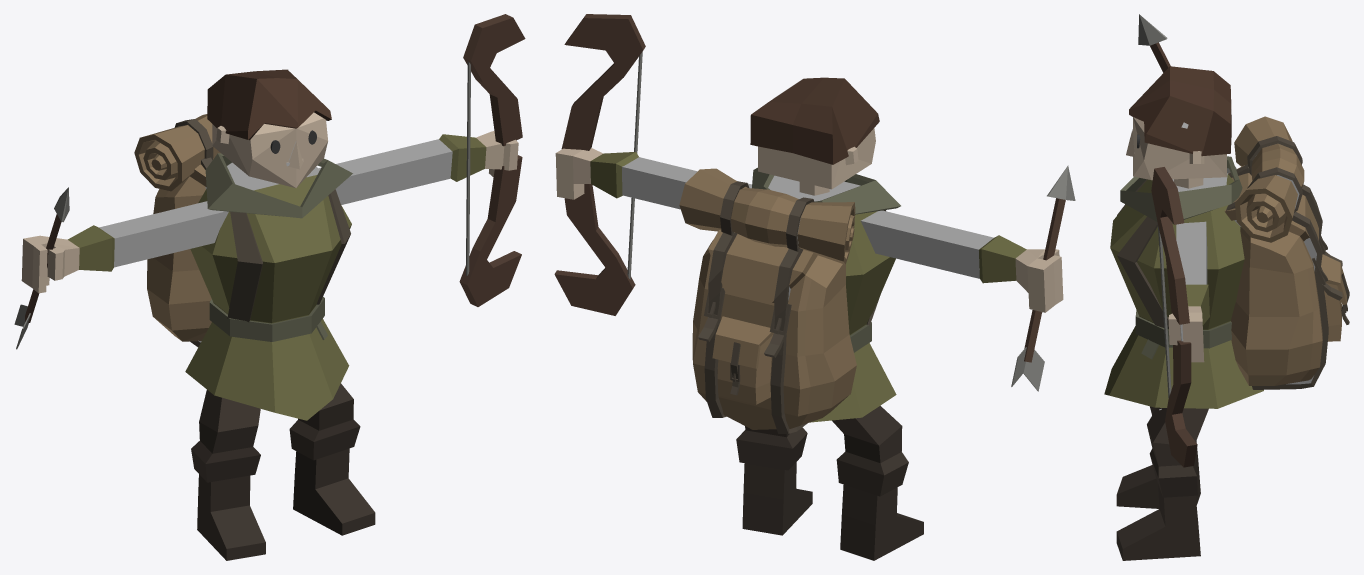
The model's file is human fixed.fbx.
The picture shows the model from 3 angles, left to right: view 1: azimuth 30°, elevation 25°; view 2: azimuth 150°, elevation 25°; view 3: azimuth 270°, elevation 25°; orthographic projection. The views are drawn at different scales.
Parts seen in each view (by area): view 1: pCube6; view 2: pCube6; view 3: pCube6.
Boxes of the visible parts, x1=… form: pCube6: x1=14, y1=14, x2=525, y2=560; pCube6: x1=554, y1=14, x2=1075, y2=560; pCube6: x1=1104, y1=14, x2=1349, y2=560.
Bounding box in the file's own units: 13.83 × 12.27 × 6.03.
